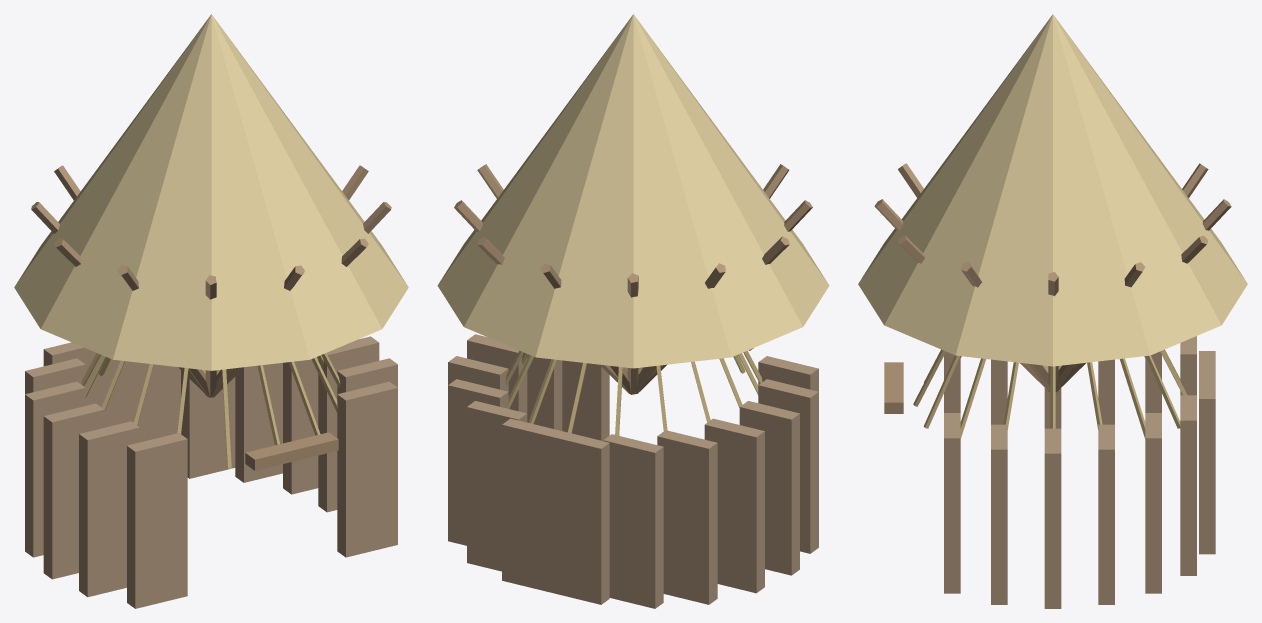
File: hut.glb
The picture shows the model from 3 angles, left to right: view 1: azimuth 30°, elevation 25°; view 2: azimuth 150°, elevation 25°; view 3: azimuth 270°, elevation 25°; orthographic projection.
Parts seen in each view (by area): view 1: part26, part3, part2, part4, part5, part12, part6, part11, part13, part0, part10, part9 (+5 smaller); view 2: part26, part9, part7, part8, part6, part10, part5, part11, part4, part12, part2, part1 (+4 smaller); view 3: part26, part0, part1, part2, part11, part12, part13, part10, part4, part6, part43, part8 (+6 smaller).
Boxes of the visible parts, <box> form: part26: <box>14,14,408,370</box>; part3: <box>127,433,187,608</box>; part2: <box>337,381,397,557</box>; part4: <box>79,421,139,597</box>; part5: <box>43,403,104,579</box>; part12: <box>235,363,282,482</box>; part6: <box>25,381,85,557</box>; part11: <box>181,370,235,478</box>; part13: <box>283,357,318,494</box>; part0: <box>318,336,379,512</box>; part10: <box>136,363,180,442</box>; part9: <box>104,359,139,427</box>; part26: <box>437,14,829,368</box>; part9: <box>549,431,609,604</box>; part7: <box>657,430,717,604</box>; part8: <box>603,434,663,608</box>; part6: <box>704,418,764,593</box>; part10: <box>502,418,561,591</box>; part5: <box>739,401,799,575</box>; part11: <box>467,401,527,571</box>; part4: <box>758,379,818,553</box>; part12: <box>448,379,508,545</box>; part2: <box>562,360,609,440</box>; part1: <box>527,354,562,430</box>; part26: <box>858,14,1247,366</box>; part0: <box>1044,428,1061,608</box>; part1: <box>991,424,1007,604</box>; part2: <box>944,413,960,593</box>; part11: <box>1180,395,1196,575</box>; part12: <box>1145,413,1161,593</box>; part13: <box>1098,424,1114,604</box>; part10: <box>1199,376,1215,554</box>; part4: <box>991,359,1007,424</box>; part6: <box>1098,359,1114,424</box>; part43: <box>884,362,903,413</box>; part8: <box>1180,336,1196,395</box>.
Bounding box in the file's own units: 5.1 × 7.45 × 5.1.
